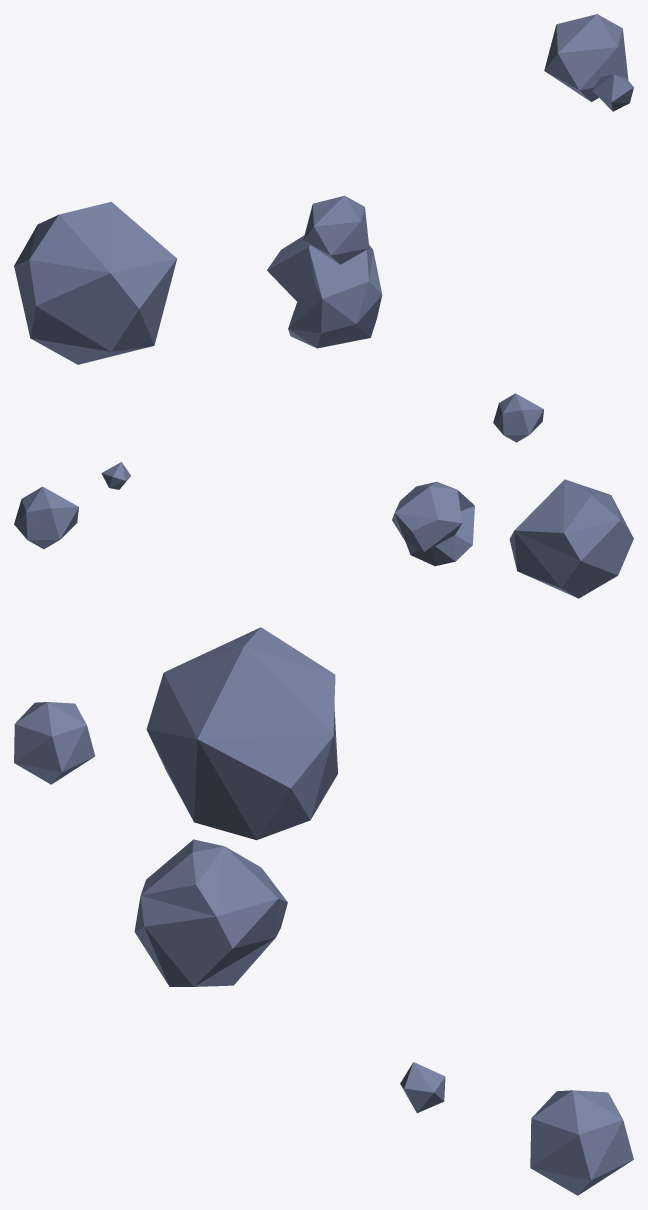
File: snowland_stone1.obj
The picture shows the model from 3 angles, top to bottom: view 1: azimuth 30°, elevation 25°; view 2: azimuth 150°, elevation 25°; view 3: azimuth 270°, elevation 25°; orthographic projection. The views are drawn at different scales.
Parts seen in each view (by area): view 1: Icosphere.000; view 2: Icosphere.000; view 3: Icosphere.000.
Boxes of the visible parts, left/top/right/bottom form: Icosphere.000: left=14, top=14, right=633, bottom=364; Icosphere.000: left=14, top=393, right=633, bottom=598; Icosphere.000: left=14, top=627, right=633, bottom=1195.
Bounding box in the file's own units: 27.47 × 7.38 × 16.35.
